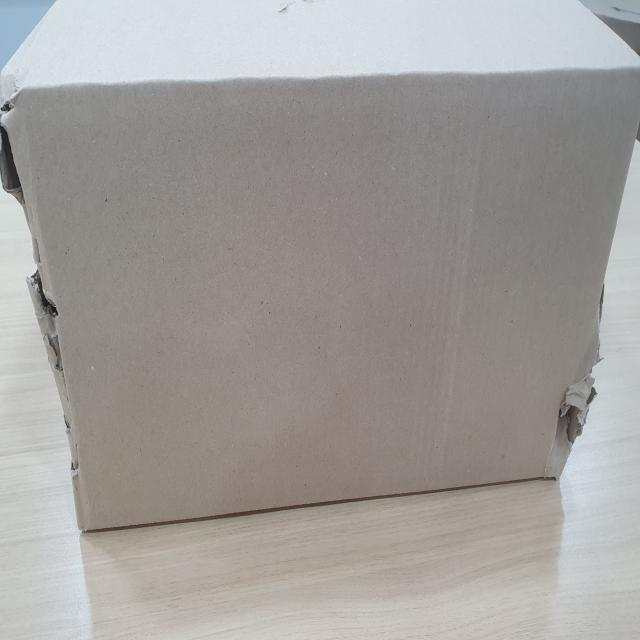hole: (538, 365, 602, 450), (0, 92, 28, 200)
